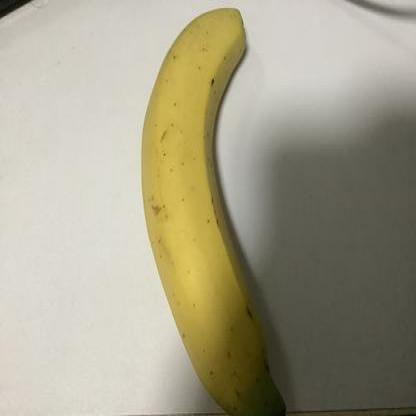bananarotation: (137, 6, 288, 413)
